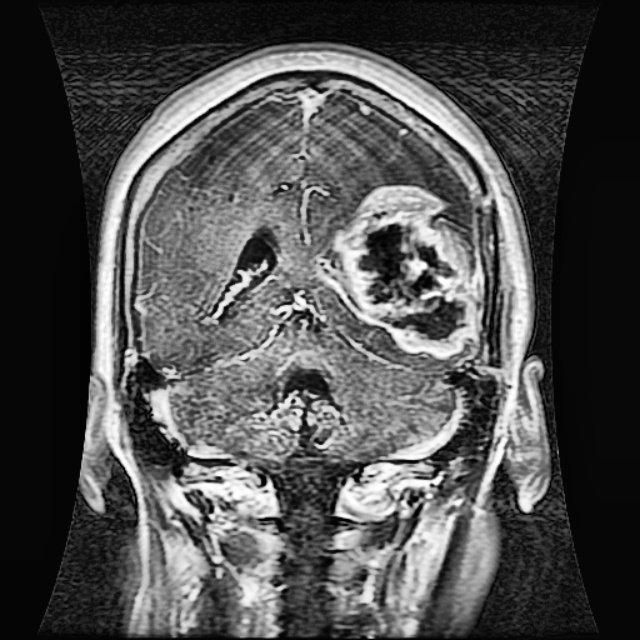Meningioma: (312, 178, 488, 359)
